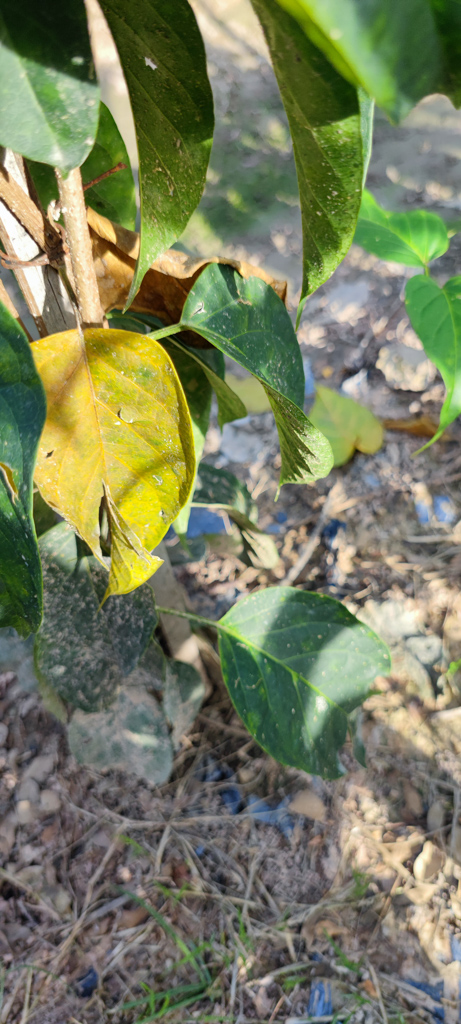Pepper yellow leaf: (20, 326, 211, 606)
